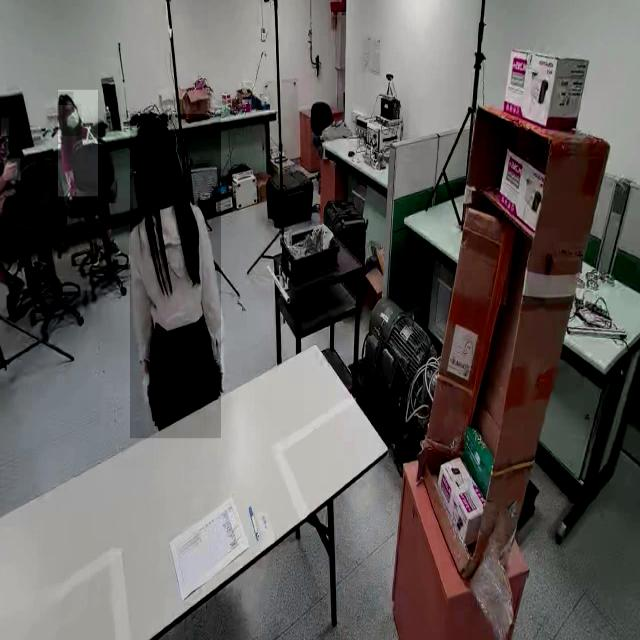face_mask: (62, 104, 82, 136)
hand_noglove: (3, 158, 21, 182)
head_nohelmet: (137, 116, 175, 154), (56, 92, 74, 105), (1, 117, 9, 137)
person: (129, 114, 221, 439), (58, 90, 98, 197)
